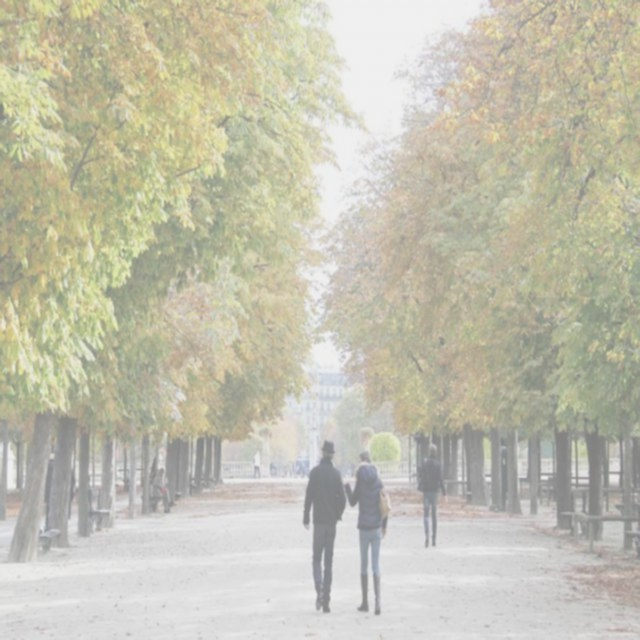pessoa: (341, 448, 392, 616), (303, 438, 347, 614), (416, 442, 446, 547), (148, 466, 174, 514), (152, 468, 176, 514), (44, 456, 54, 528), (270, 459, 310, 477), (67, 466, 76, 518), (150, 456, 160, 496), (252, 450, 262, 480), (348, 466, 356, 478)
